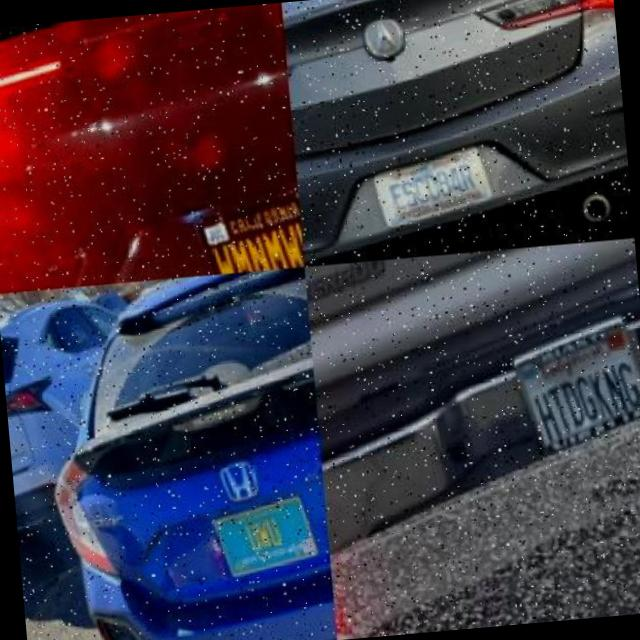LicensePlate: (509, 310, 640, 457), (189, 184, 304, 275), (373, 142, 493, 226), (212, 492, 319, 575)
